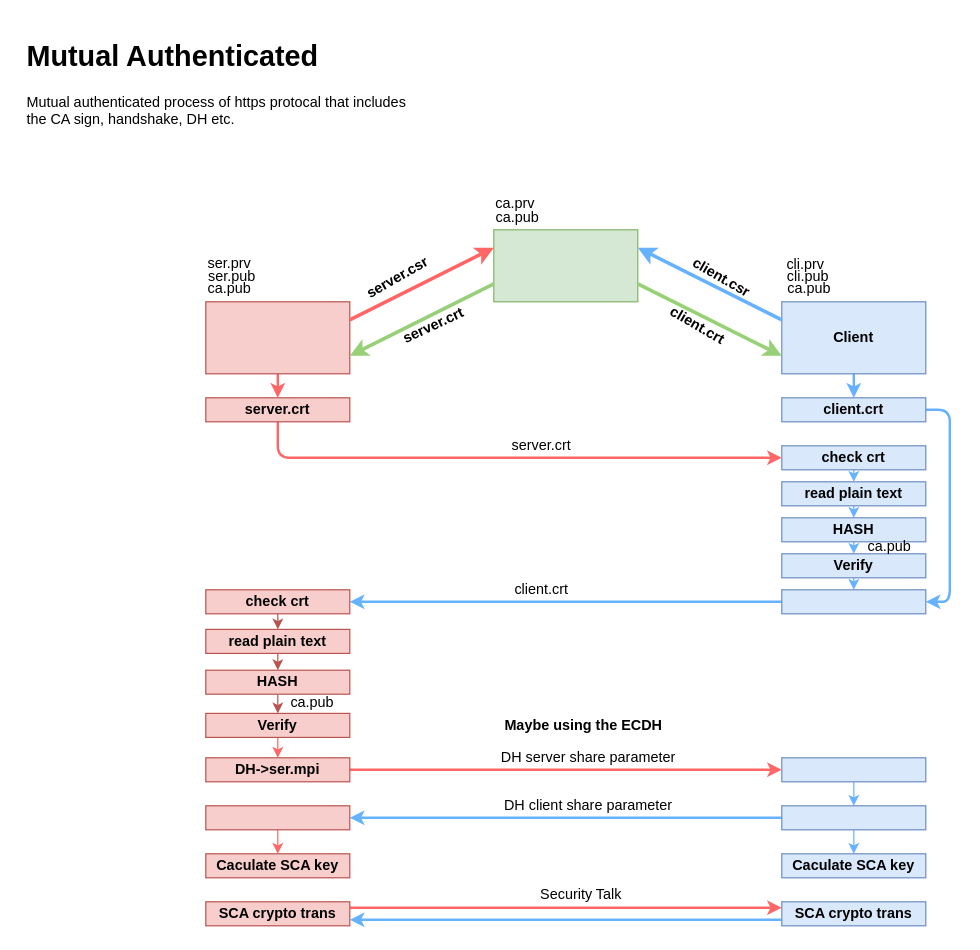
Some shapes in this 980 by 950 pixel diagram are drawn without their labels. Here are the shapes that lost their labels. From the top down, the box of each, then its label:
(493, 229, 638, 302): CA
(205, 301, 350, 374): Server
(781, 589, 926, 614): Send Client Crt
(781, 757, 926, 782): Recv ser.mpi
(205, 805, 350, 830): Recv cli.mpi
(781, 805, 926, 830): HD->cli.mpi
